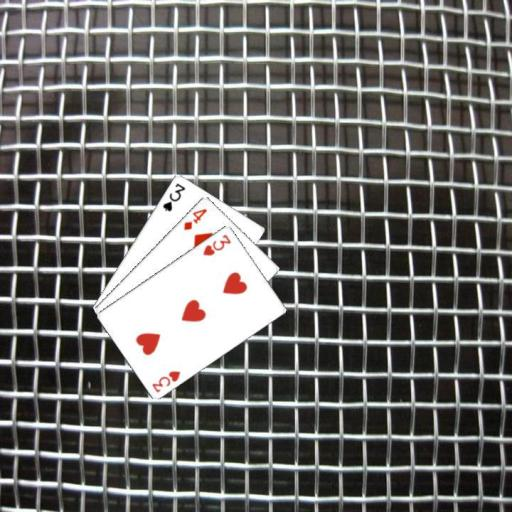3H: (149, 367, 182, 394), (200, 231, 232, 257)
3S: (160, 180, 187, 213)
4D: (181, 205, 208, 231)
